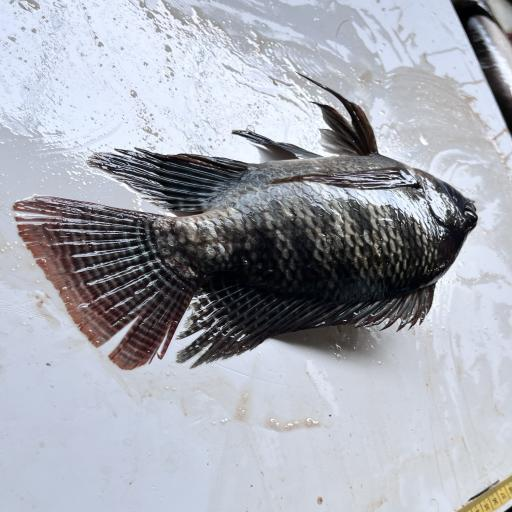Tilapia: (13, 71, 479, 371)
